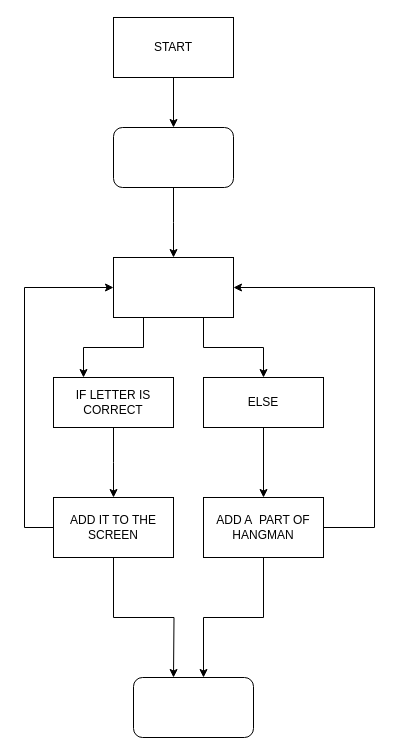
Some shapes in this 400 by 755 pixel diagram are drawn without their labels. Each missing label, with the centre of its shape:
"END" belongs at (193,707).
"RANDOM WORD ALONG WITH A GUESS WORD" belongs at (173,157).
"USER INPUT (PER LETTER)" belongs at (173,287).
